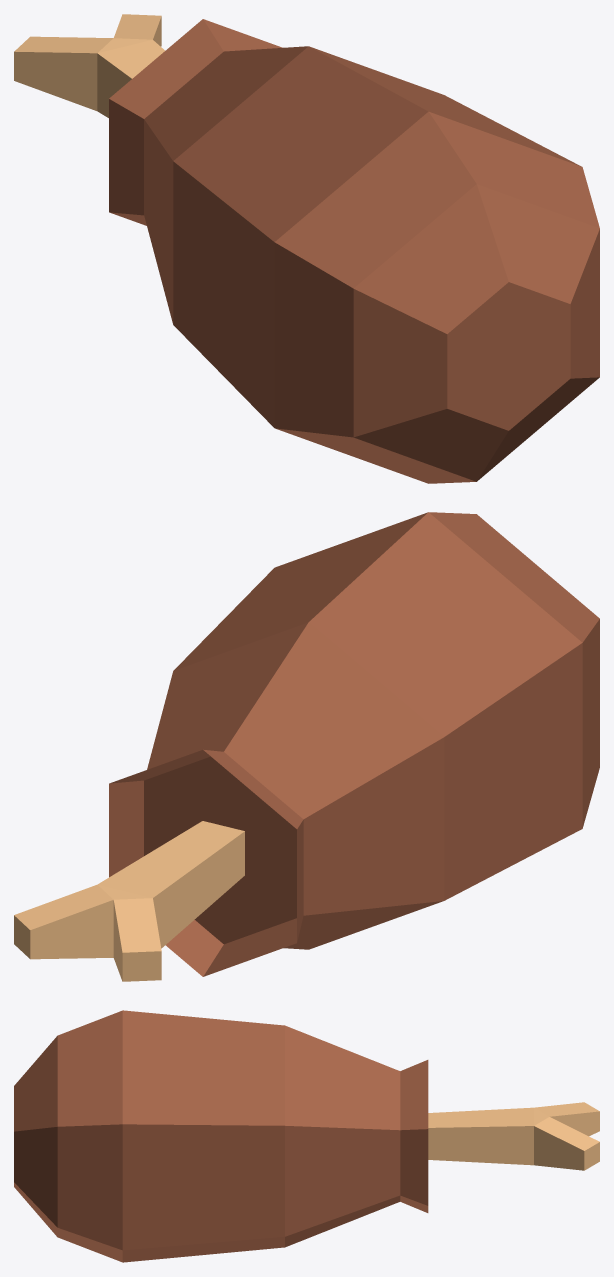
Rendered from wholerHam.fbx.
The picture shows the model from 3 angles, top to bottom: view 1: azimuth 30°, elevation 25°; view 2: azimuth 150°, elevation 25°; view 3: azimuth 270°, elevation 25°; orthographic projection. The views are drawn at different scales.
Visible parts, largest first — view 1: wholerHam; view 2: wholerHam; view 3: wholerHam.
Part boxes in pixels (box(x1,y1,x2,y2)): wholerHam: box(14, 14, 599, 483); wholerHam: box(14, 512, 599, 981); wholerHam: box(14, 1010, 599, 1262).
Size of the model in its own units: 3.41 by 3.94 by 8.29.
